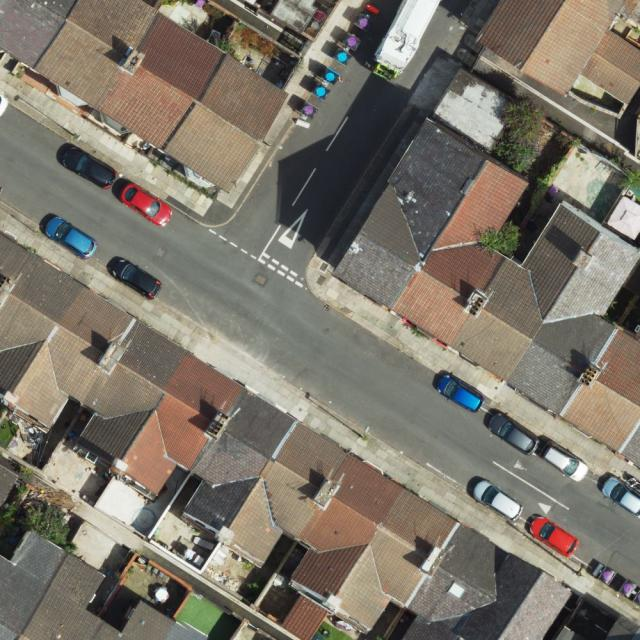roof: (0, 233, 573, 640), (333, 70, 640, 469), (0, 0, 288, 195), (0, 530, 209, 640), (476, 0, 640, 105)
skylight: (446, 580, 467, 600)
